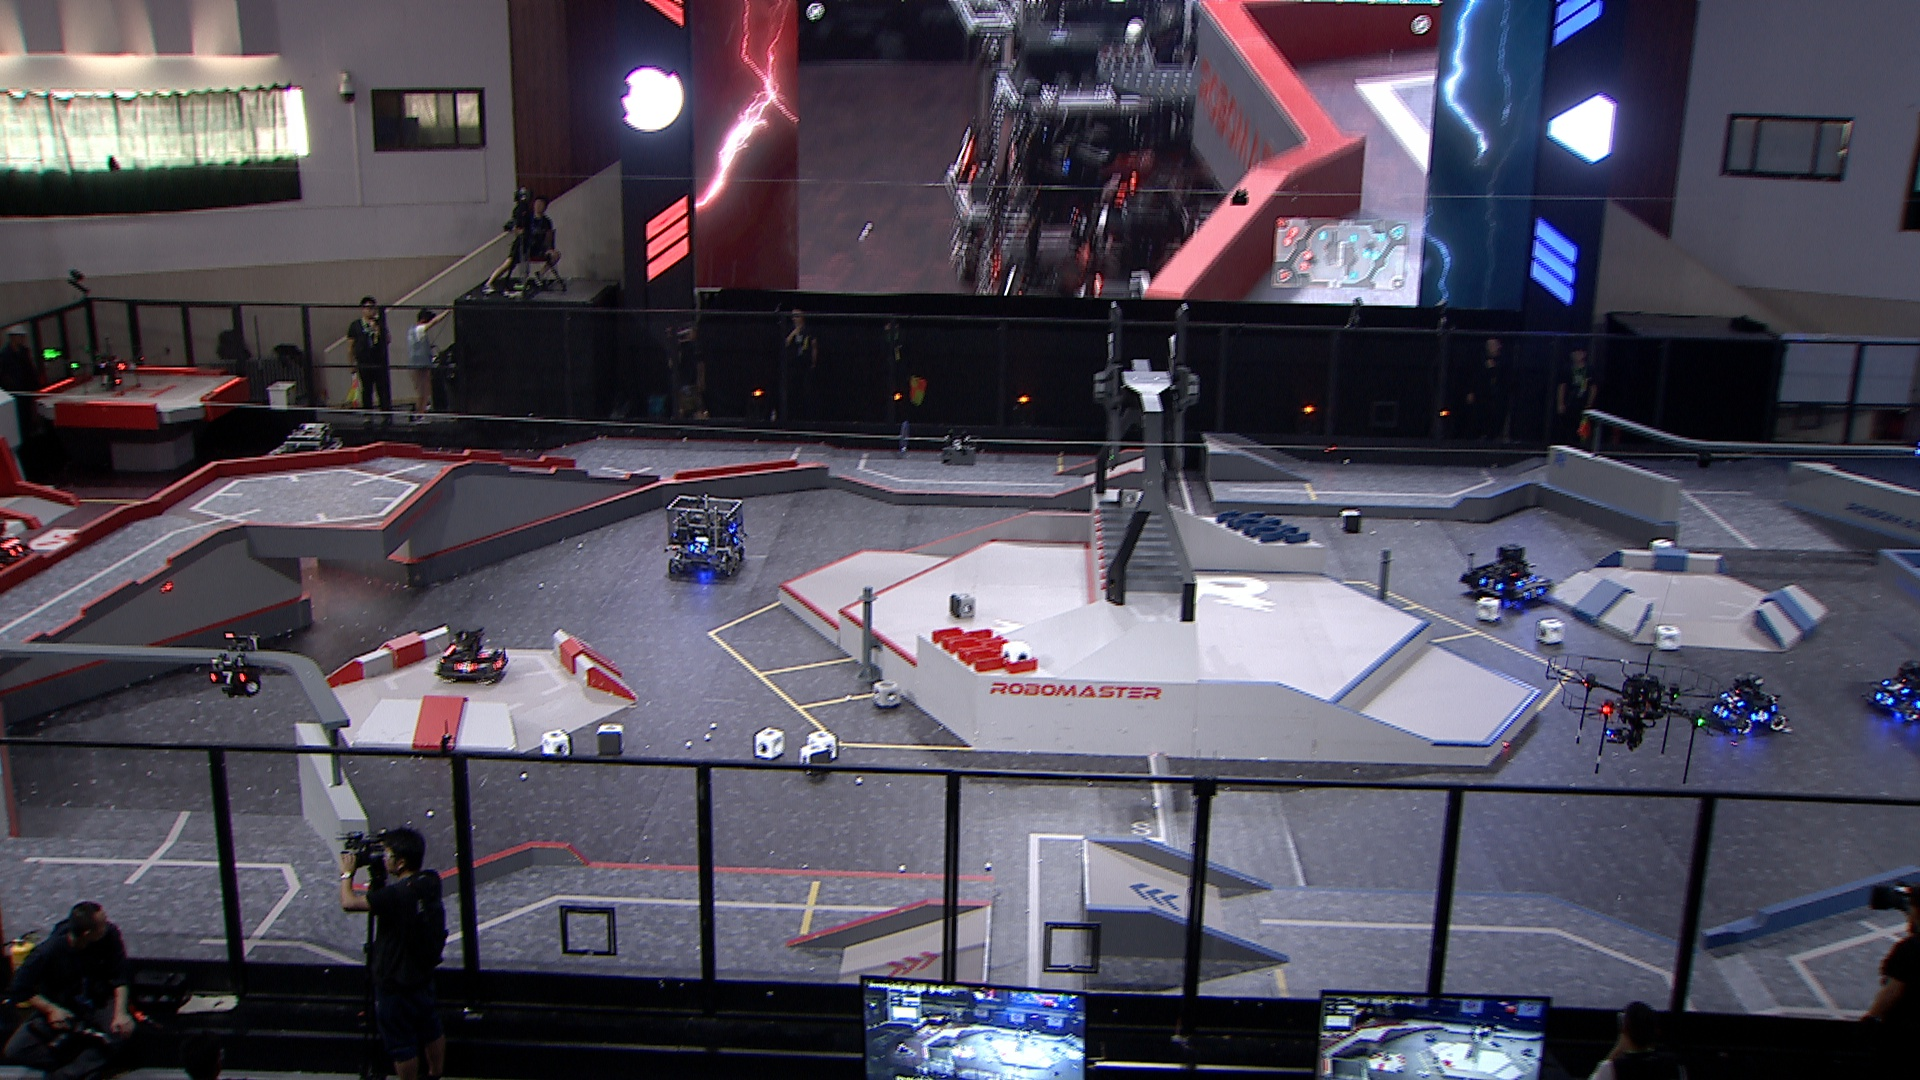armor: (206, 669, 249, 684), (1477, 576, 1505, 593), (1882, 679, 1909, 695), (1873, 688, 1896, 707), (1721, 690, 1743, 707), (1750, 708, 1771, 725), (1522, 585, 1544, 600), (1514, 575, 1538, 588), (455, 659, 479, 673), (7, 545, 26, 560), (688, 541, 708, 555), (491, 655, 506, 671), (1712, 704, 1730, 717), (477, 647, 495, 659)
car: (258, 418, 351, 498), (665, 493, 746, 578), (1457, 541, 1553, 611), (1698, 671, 1789, 736), (433, 622, 510, 684), (1869, 659, 1920, 723)
watcher: (200, 632, 262, 698)
